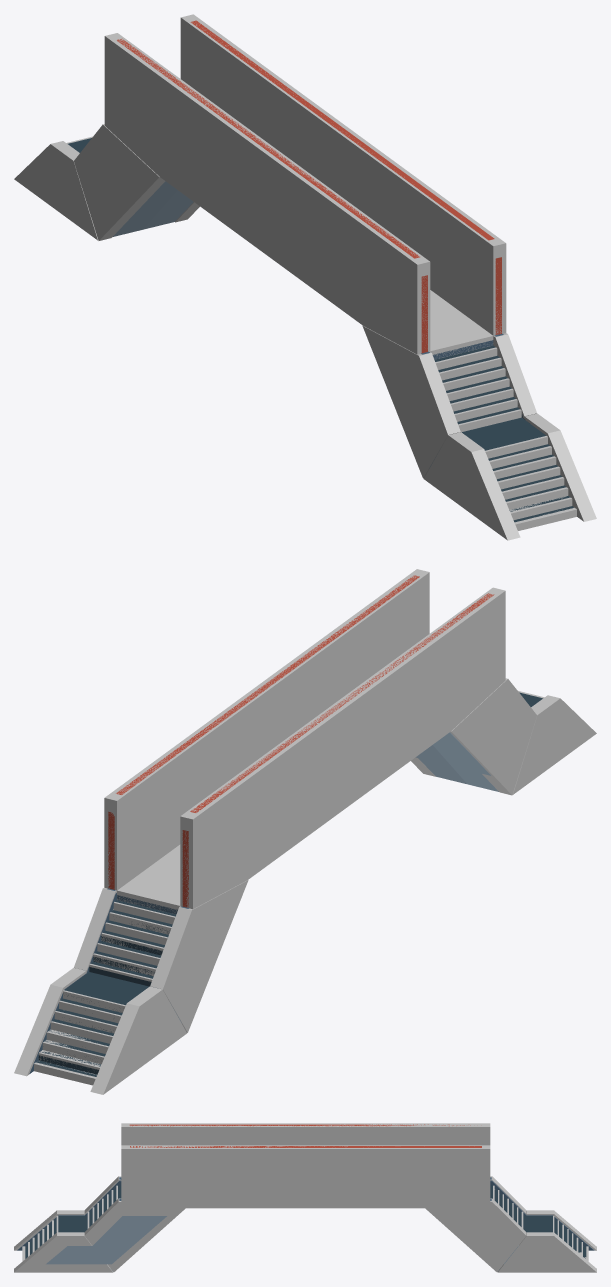
The model's file is SM_FootBridge.fbx.
3 renders of one model, top to bottom at view 1: azimuth 30°, elevation 25°; view 2: azimuth 150°, elevation 25°; view 3: azimuth 270°, elevation 25°, orthographic. The views are drawn at different scales.
Visible parts, largest first — view 1: SM_FootBridge_ConvexHulls, SM_FootBridge; view 2: SM_FootBridge_ConvexHulls, SM_FootBridge; view 3: SM_FootBridge_ConvexHulls, SM_FootBridge.
Boxes of the visible parts, x1=… form: SM_FootBridge_ConvexHulls: x1=14, y1=14, x2=596, y2=540; SM_FootBridge: x1=68, y1=20, x2=574, y2=522; SM_FootBridge_ConvexHulls: x1=14, y1=569, x2=596, y2=1094; SM_FootBridge: x1=29, y1=575, x2=542, y2=1076; SM_FootBridge_ConvexHulls: x1=14, y1=1123, x2=596, y2=1272; SM_FootBridge: x1=17, y1=1124, x2=594, y2=1270.
Bounding box in the file's own units: 254 × 2439 × 570.
Materials: 2 (1 with a texture image).
